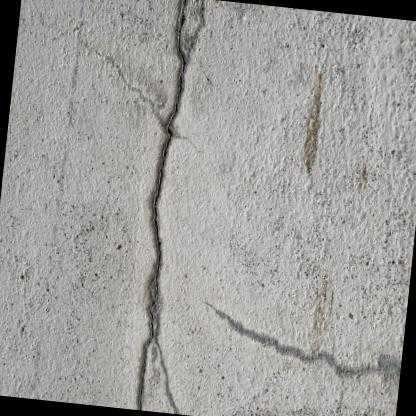crack: (136, 0, 186, 409)
